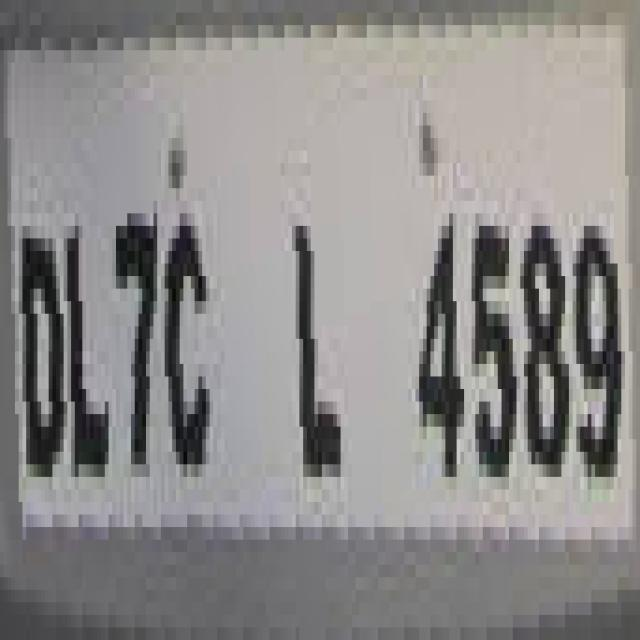license_plate: (0, 25, 618, 577)
